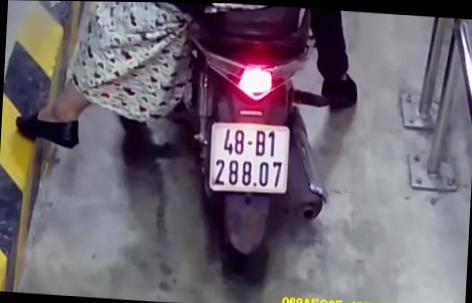LP: (207, 119, 292, 195)
